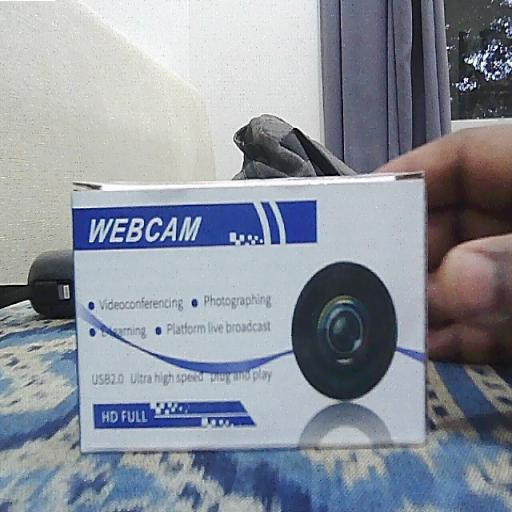webcam_box: (71, 174, 430, 454)
